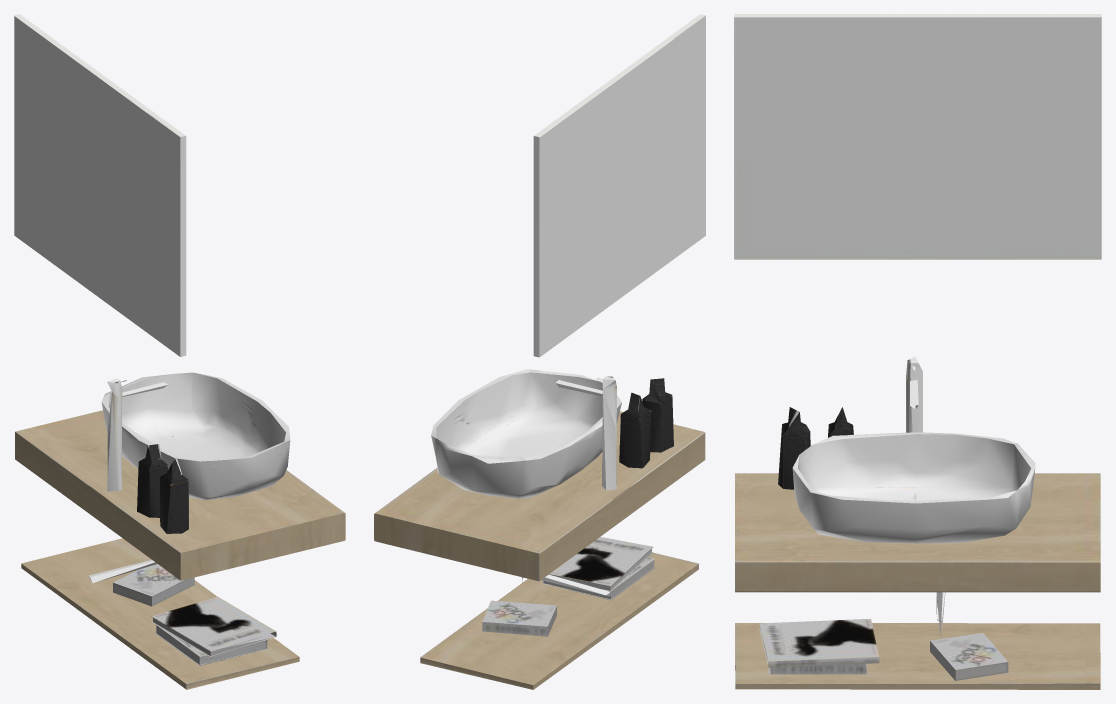
File: Wallwash0003.obj
The picture shows the model from 3 angles, left to right: view 1: azimuth 30°, elevation 25°; view 2: azimuth 150°, elevation 25°; view 3: azimuth 270°, elevation 25°; orthographic projection. The views are drawn at different scales.
Bounding box in the file's own units: 0.523 × 1.67 × 0.91.
Materials: 1 (1 with a texture image).
